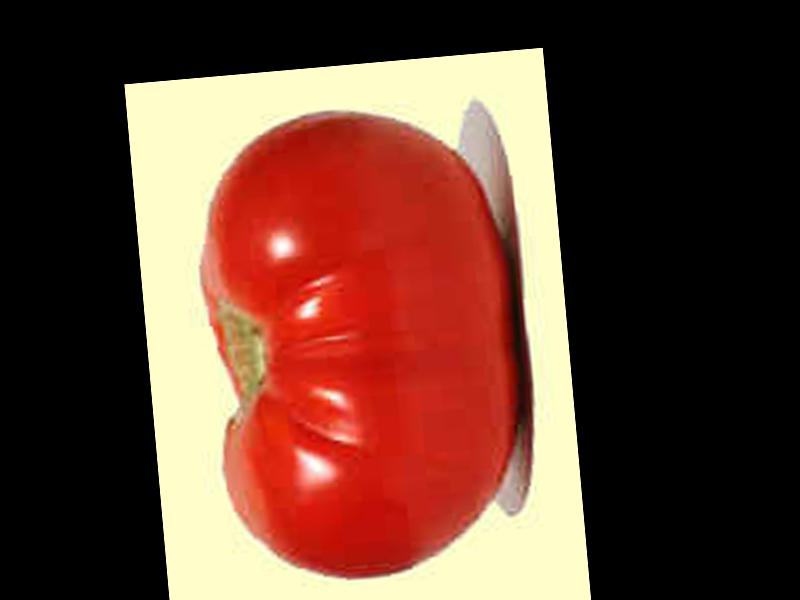Tomato: (187, 99, 532, 590)
